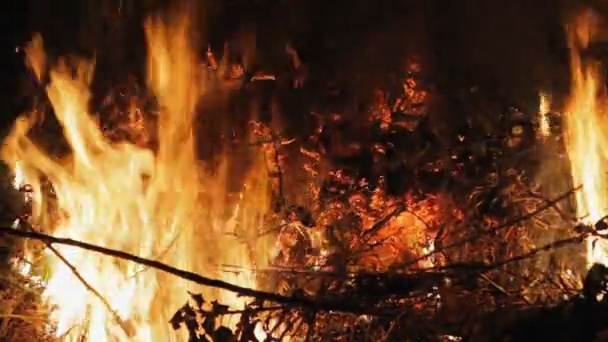fire: (10, 22, 266, 340), (562, 71, 608, 263), (538, 91, 550, 139), (414, 244, 436, 268)
